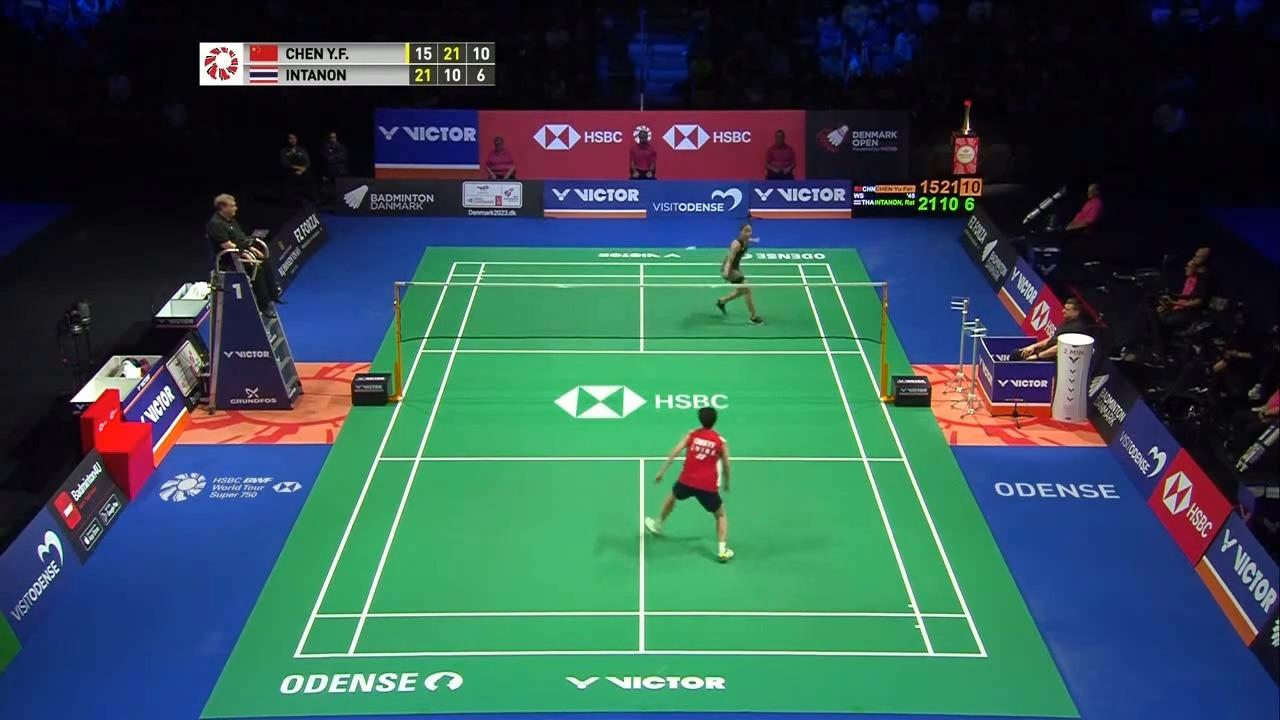shuttle: (684, 242, 699, 253)
